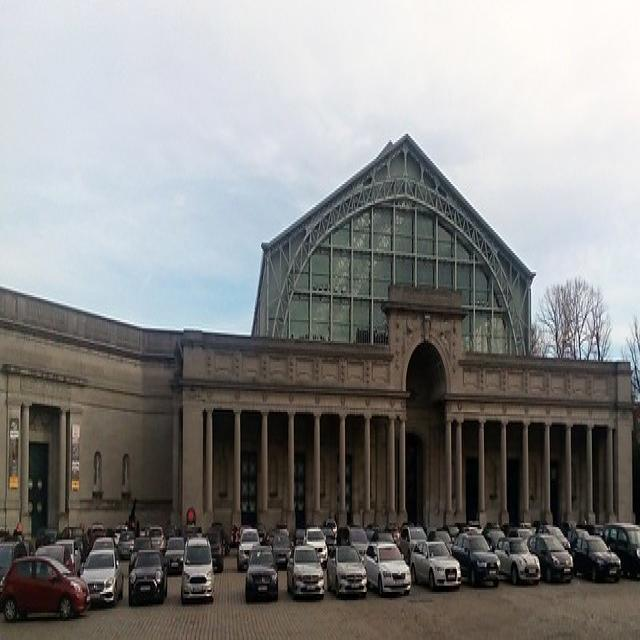building: (179, 130, 636, 529)
